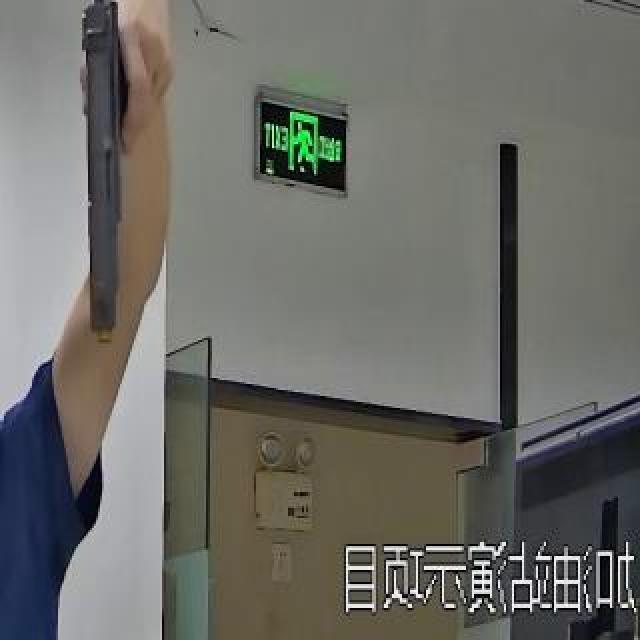Guns: (64, 0, 156, 334)
